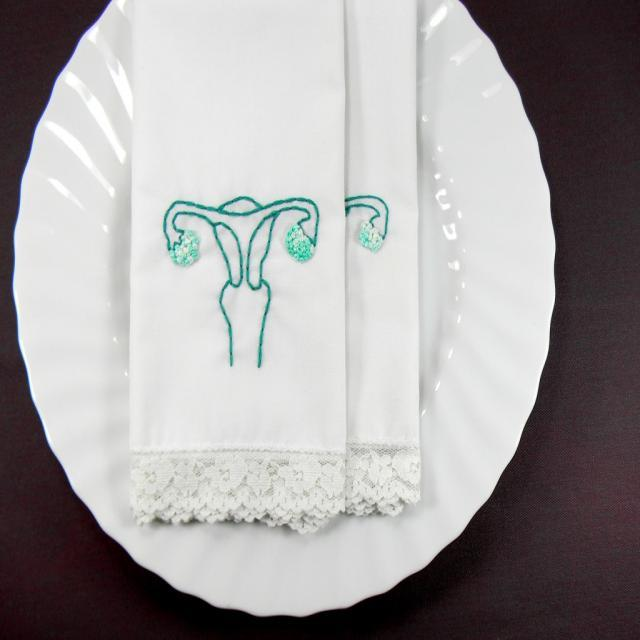ceramic plate: (0, 0, 575, 634)
